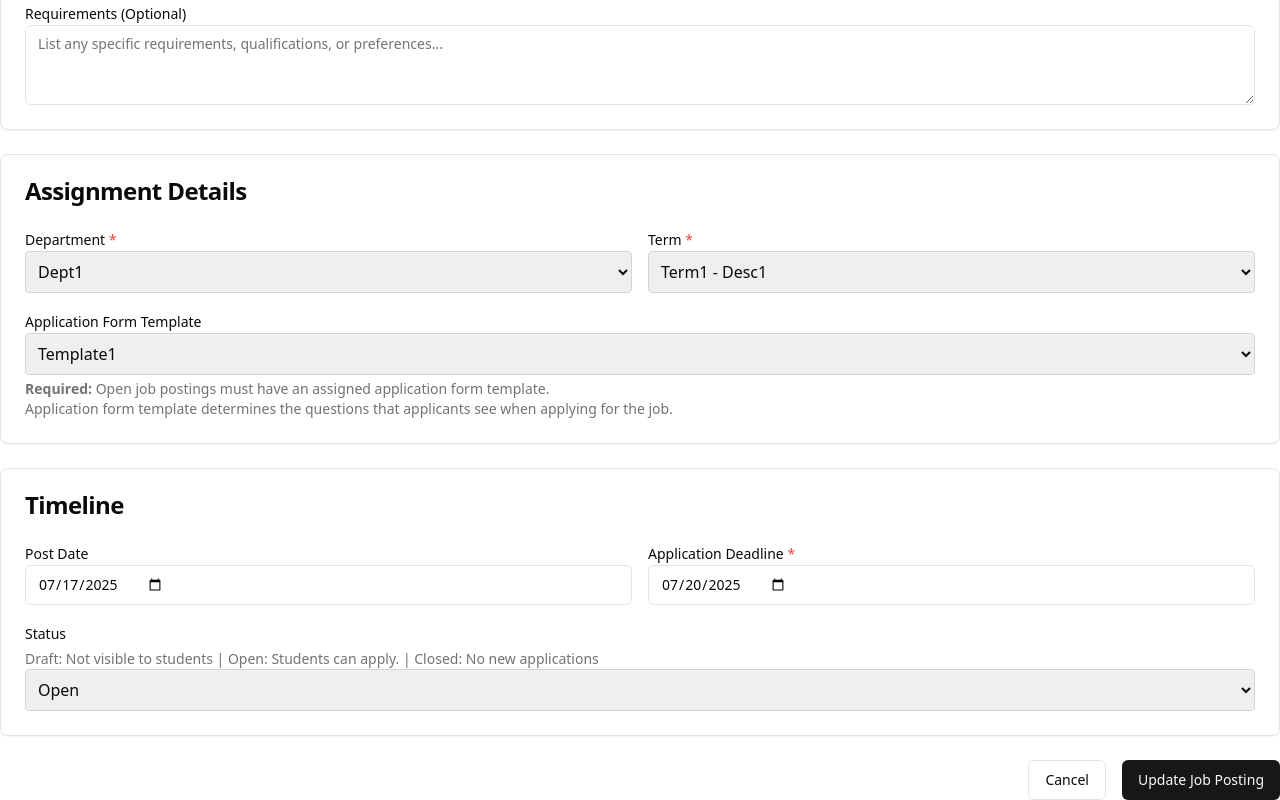
Scenario: JobPostingForm › shows Close Job button text and warning when changing status to closed on open job posting
(page scrolled)
Select "Closed" in the dropdown labelled "Status". click: point(640, 690)
box: left=25, top=669, right=1255, bottom=711
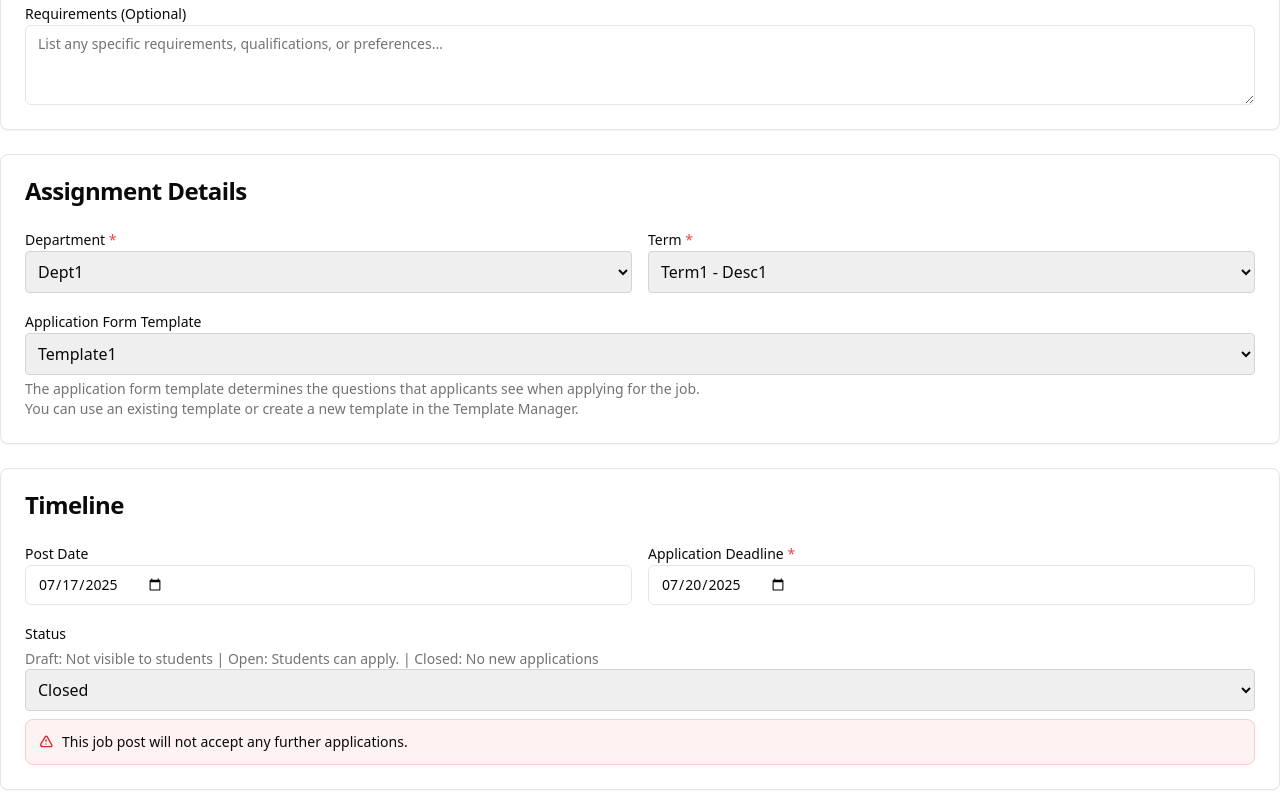
Check: the text "This job post will not accept any further applications." is shown, box left=62, top=732, right=408, bottom=752
